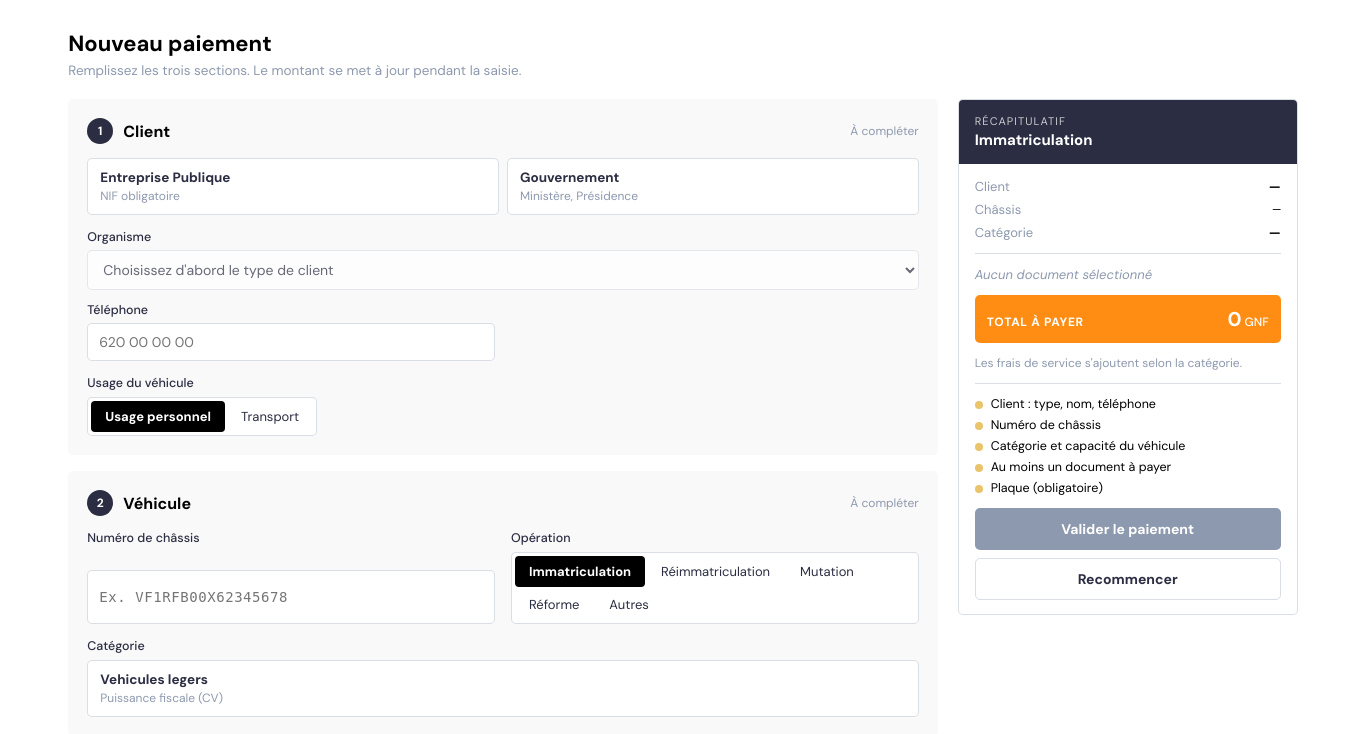
Formulaire de nouveau paiement › déduit la tranche de carte grise de la puissance saisie
Click the radio button labelled "Vehicules legers Puissance fiscale (CV)" at [503, 688], box [87,660,919,717]
(page scrolled)
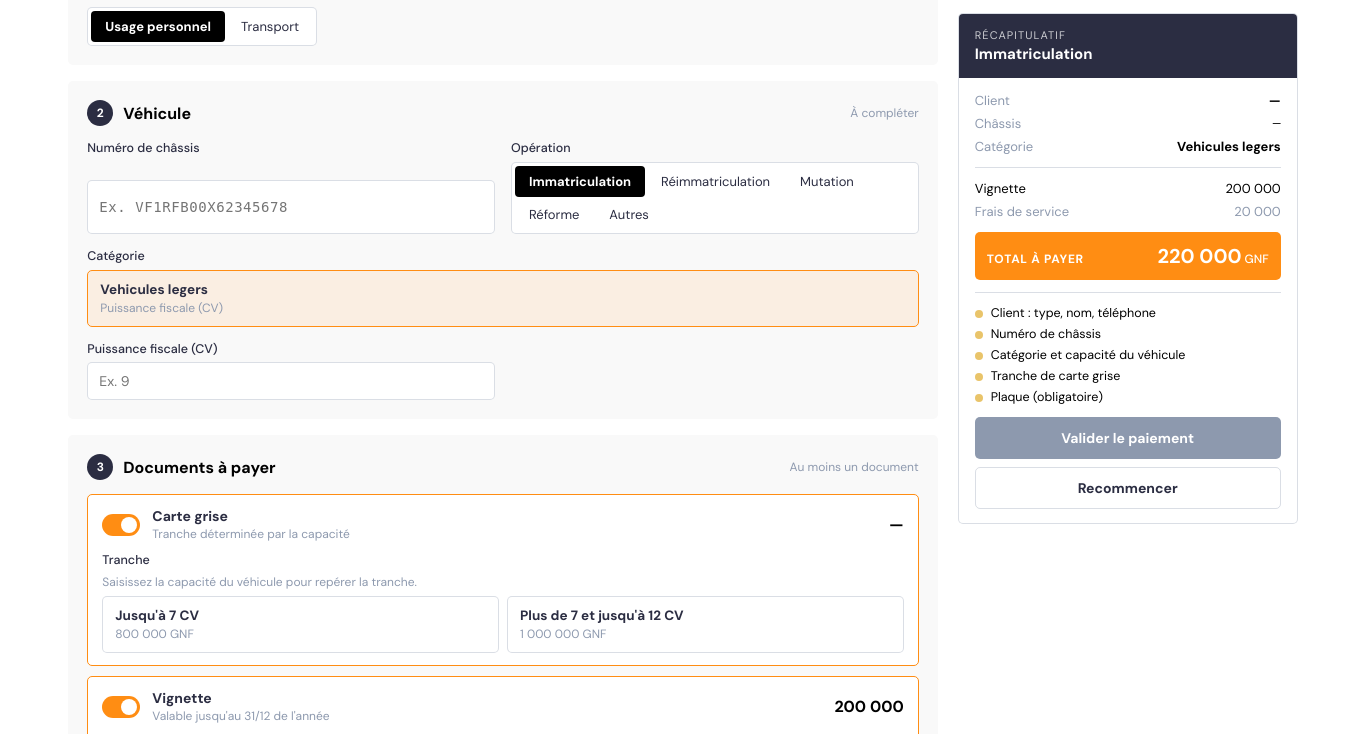
Type "9" into the number field labelled "Puissance fiscale (CV)" at [291, 381], box [87,362,495,400]
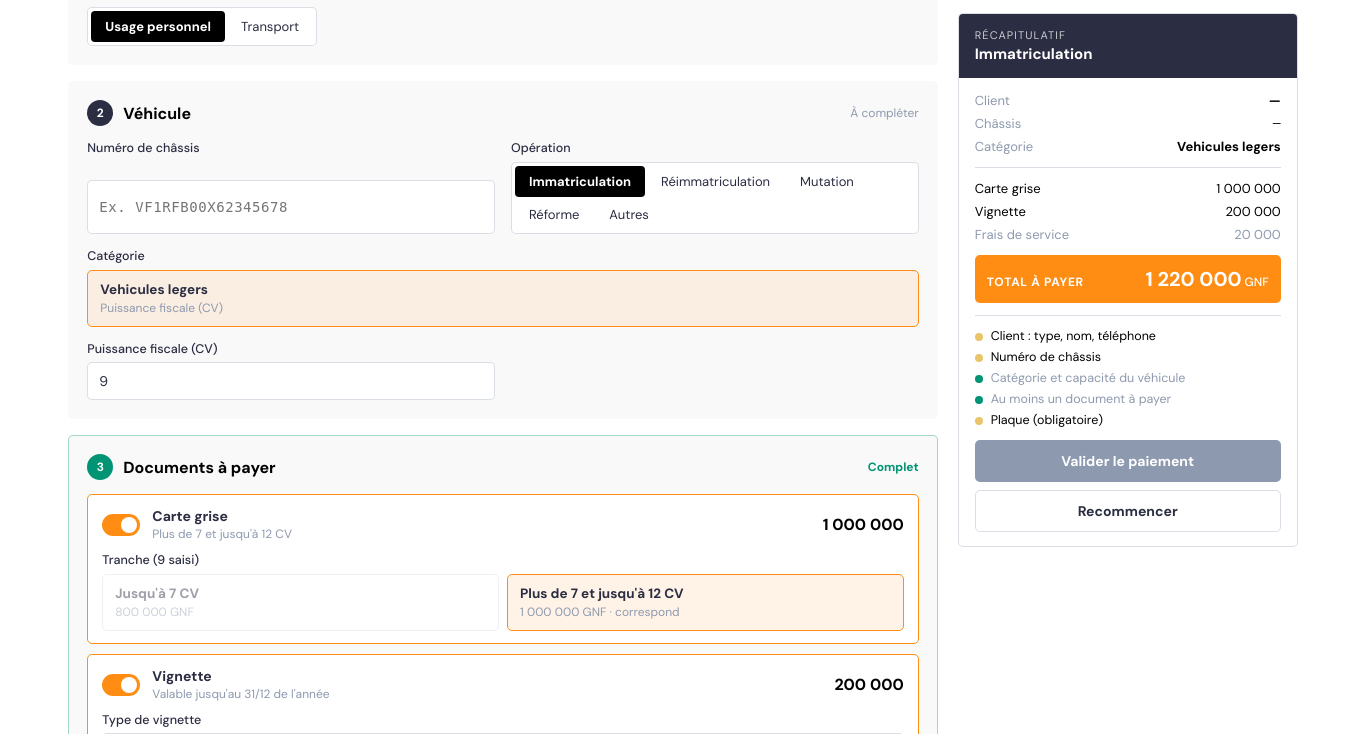
Check: the radio button labelled "Plus de 7 et jusqu'à 12 CV 1 000 000 GNF · correspond" is checked, box [507,574,904,631]
Check: the radio button labelled "Jusqu'à 7 CV 800 000 GNF" is disabled, box [102,574,499,631]
